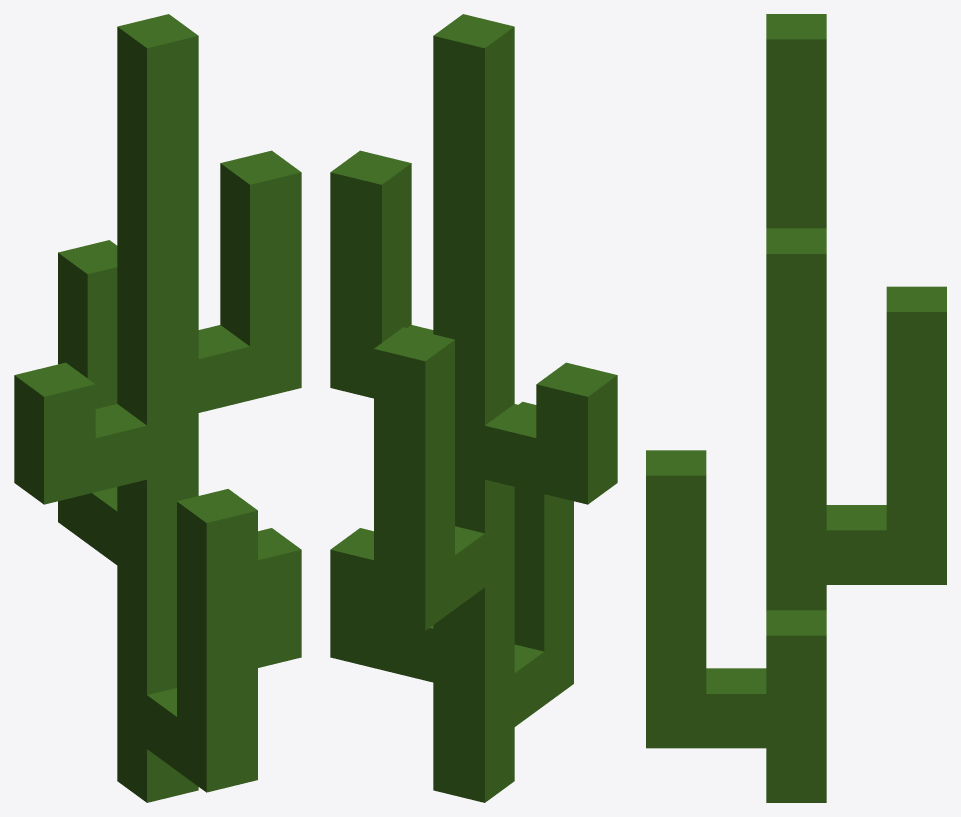
Rendered from Kaktus_04.obj.
3 views of the same model, side by side, from view 1: azimuth 30°, elevation 25°; view 2: azimuth 150°, elevation 25°; view 3: azimuth 270°, elevation 25° (orthographic).
Size of the model in its own units: 5 by 14 by 5.
